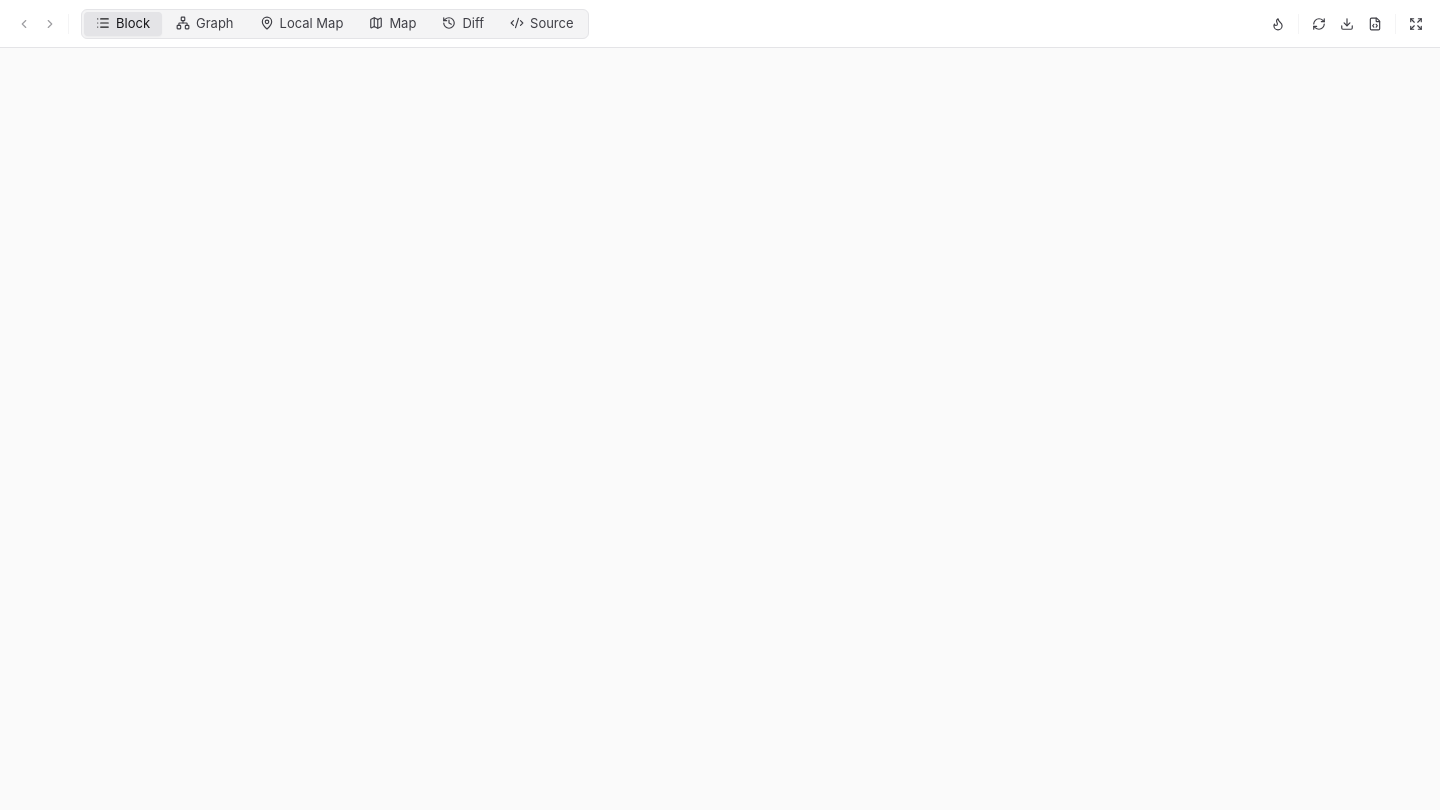
it: MainPaneToolbar › re-imports the flow, re-analyzes, and restores the document
Click the button named "Re-import flow" at (1319, 24), box [1307,12,1331,36]
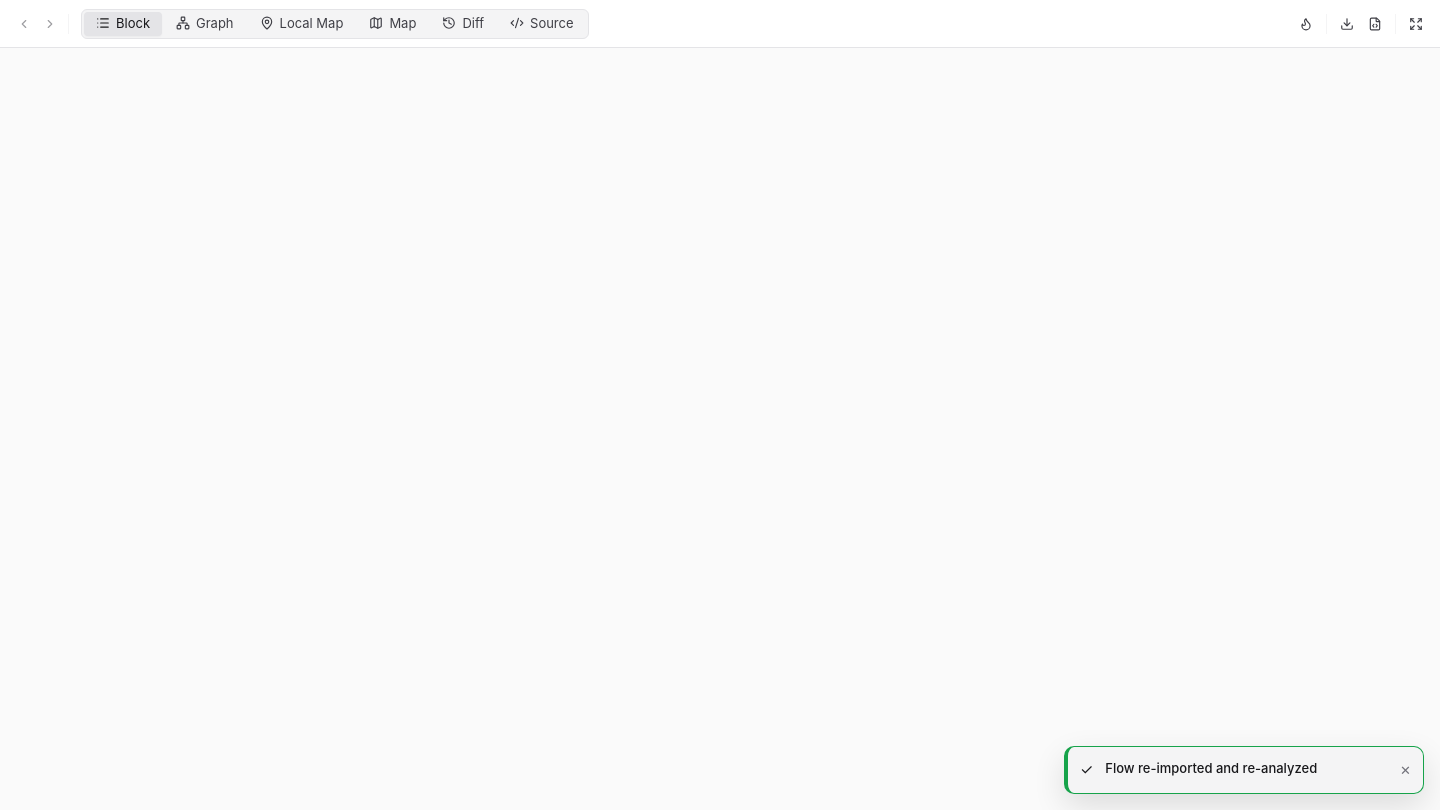
Expected: the text "Flow re-imported and re-analyzed" is shown, [1105,760,1317,776]
